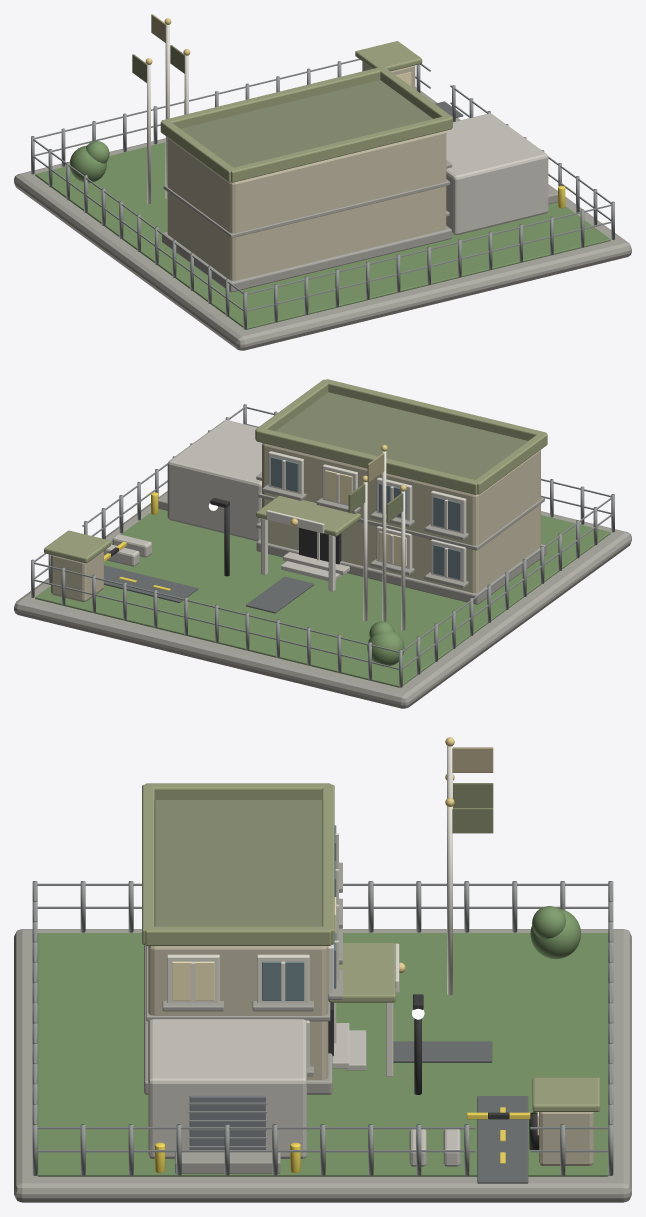
The model's file is treasury_4.glb.
3 renders of one model, top to bottom at view 1: azimuth 30°, elevation 25°; view 2: azimuth 150°, elevation 25°; view 3: azimuth 270°, elevation 25°, orthographic. The views are drawn at different scales.
Visible parts, largest first — view 1: Cube.015, Cube.001, Cube, Cube.058, Cube.071, Cube.059, Cube.016, Cube.060, Cube.057, Cube.007, Cube.061, Cube.062 (+8 smaller); view 2: Cube.001, Cube, Cube.015, Cube.058, Cube.071, Cube.060, Cube.059, Cube.016, Cube.006, Cube.065, Cube.002, Cube.007 (+28 smaller); view 3: Cube.001, Cube, Cube.058, Cube.071, Cube.015, Cube.002, Cube.062, Cube.072, Cube.065, Cube.061, Cube.006, Cube.007 (+22 smaller).
Boxes of the visible parts, box(x1,y1,x2,y2) form: Cube.015: box(167, 130, 446, 280); Cube.001: box(35, 142, 610, 329); Cube: box(14, 87, 631, 350); Cube.058: box(180, 80, 432, 167); Cube.071: box(446, 113, 548, 235); Cube.059: box(229, 115, 452, 182); Cube.016: box(162, 226, 451, 292); Cube.060: box(161, 67, 382, 128); Cube.057: box(163, 179, 450, 238); Cube.007: box(355, 41, 422, 71); Cube.061: box(160, 121, 233, 182); Cube.062: box(378, 67, 452, 127); Cube.001: box(35, 508, 610, 687); Cube: box(14, 491, 631, 708); Cube.015: box(262, 443, 540, 592); Cube.058: box(275, 392, 527, 479); Cube.071: box(167, 420, 262, 541); Cube.060: box(256, 429, 478, 494); Cube.059: box(324, 379, 546, 440); Cube.016: box(256, 539, 546, 604); Cube.006: box(51, 551, 103, 601); Cube.065: box(256, 495, 360, 536); Cube.002: box(104, 565, 198, 602); Cube.007: box(44, 530, 110, 563); Cube.001: box(37, 933, 608, 1176); Cube: box(14, 929, 631, 1202); Cube.058: box(154, 800, 321, 926); Cube.071: box(148, 1019, 306, 1158); Cube.015: box(148, 946, 328, 1079); Cube.002: box(477, 1096, 528, 1183); Cube.062: box(145, 926, 331, 945); Cube.072: box(189, 1095, 265, 1149); Cube.065: box(328, 943, 395, 1002); Cube.061: box(145, 783, 330, 800); Cube.006: box(539, 1112, 593, 1165); Cube.007: box(532, 1077, 600, 1111).
Size of the model in its own units: 2.92 by 1.39 by 2.92.
